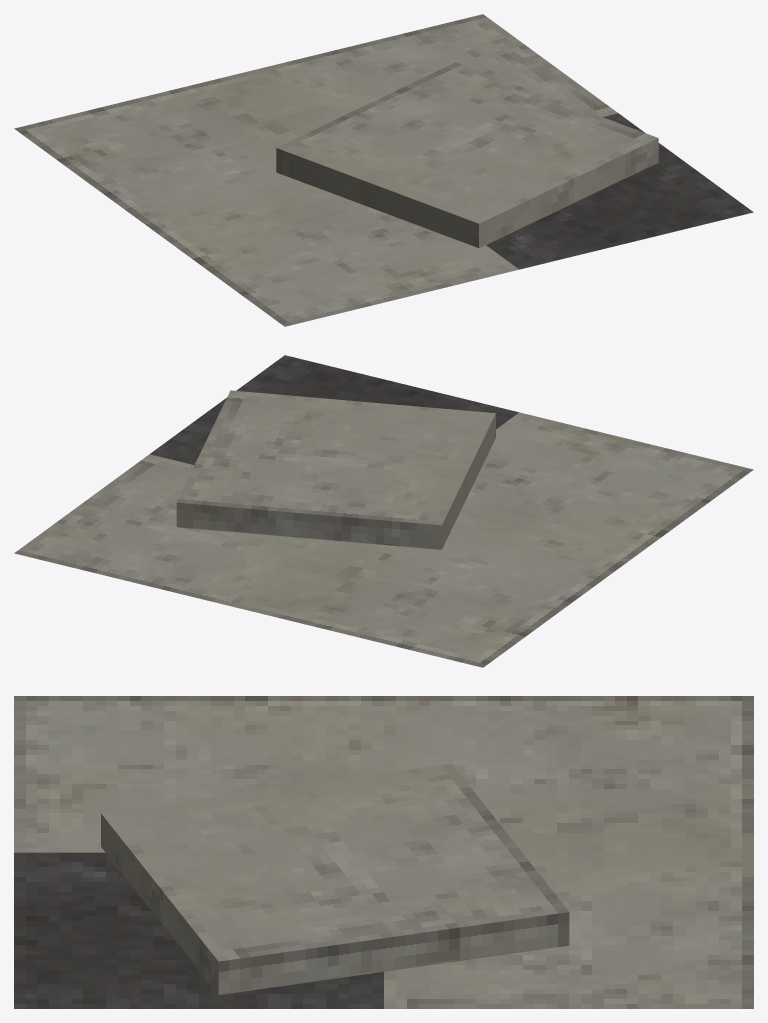
Rendered from kenney_road_asphalt_damaged.glb.
The picture shows the model from 3 angles, top to bottom: view 1: azimuth 30°, elevation 25°; view 2: azimuth 150°, elevation 25°; view 3: azimuth 270°, elevation 25°; orthographic projection. The views are drawn at different scales.
Visible parts, largest first — view 1: road-asphalt-damaged; view 2: road-asphalt-damaged; view 3: road-asphalt-damaged.
Part boxes in pixels (x1=…): road-asphalt-damaged: x1=14, y1=14, x2=753, y2=326; road-asphalt-damaged: x1=14, y1=355, x2=753, y2=667; road-asphalt-damaged: x1=14, y1=696, x2=753, y2=1008.
Bounding box in the file's own units: 1 × 0.05 × 1.
Materials: 2 (2 with a texture image).
